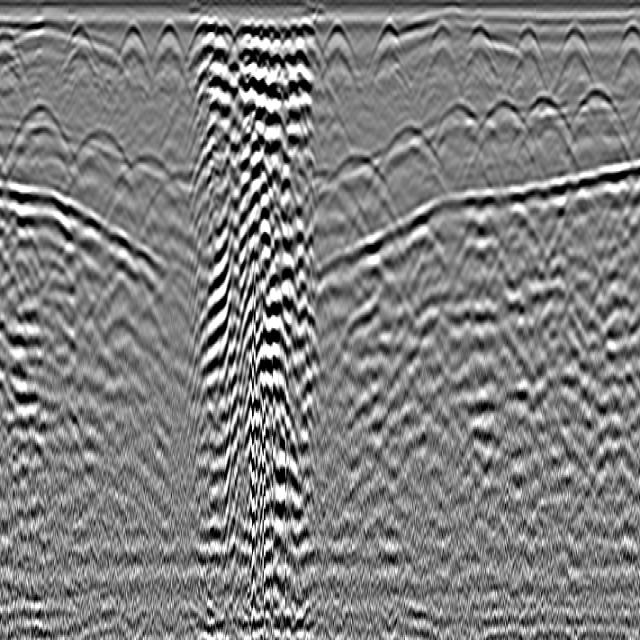hyperbola: (113, 149, 187, 229), (2, 110, 74, 185), (72, 120, 131, 210), (472, 91, 534, 175), (431, 89, 484, 187), (324, 154, 396, 226), (569, 85, 629, 162), (383, 121, 442, 199), (516, 91, 572, 172), (316, 165, 368, 237), (140, 169, 190, 241), (368, 18, 410, 96), (419, 16, 457, 89), (318, 13, 357, 84), (552, 18, 594, 82), (63, 13, 100, 80), (463, 11, 497, 83), (509, 20, 543, 85), (151, 21, 186, 79), (609, 20, 640, 82), (117, 21, 150, 76), (2, 31, 30, 94)
